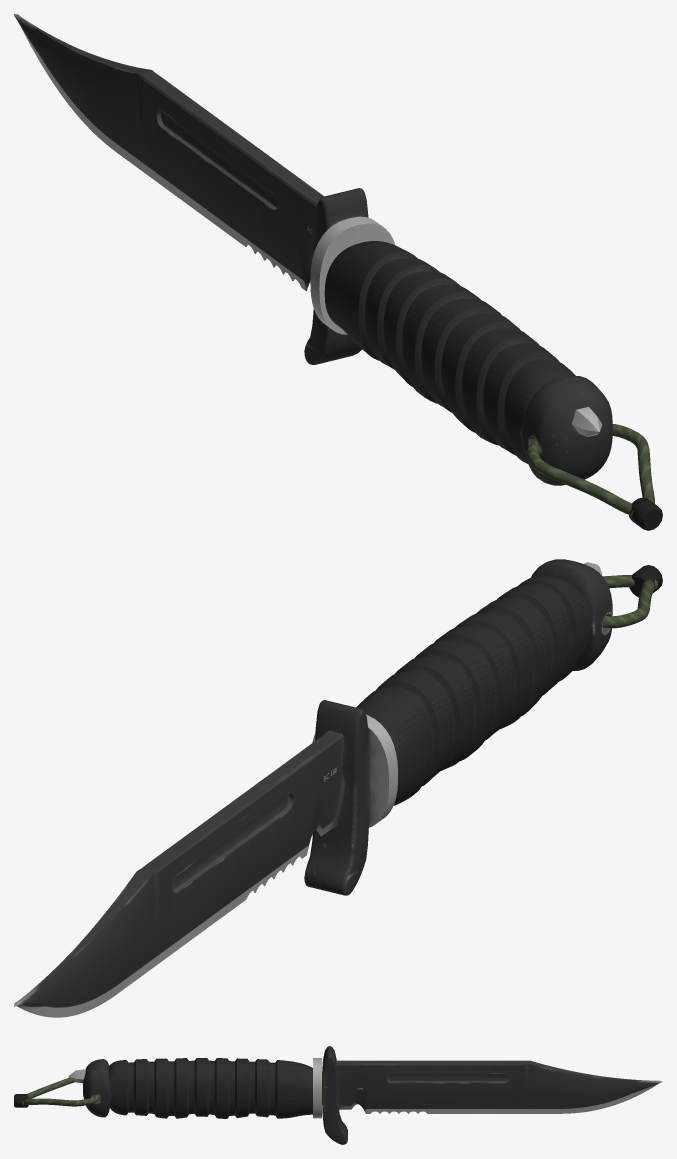
The model's file is faca_combate.glb.
3 views of the same model, one above another, from view 1: azimuth 30°, elevation 25°; view 2: azimuth 150°, elevation 25°; view 3: azimuth 270°, elevation 25° (orthographic). The views are drawn at different scales.
Parts seen in each view (by area): view 1: faca_combate_lamina, faca_combate_cabo; view 2: faca_combate_lamina, faca_combate_cabo; view 3: faca_combate_lamina, faca_combate_cabo.
Boxes of the visible parts, x1,y1,x2,y2 form: faca_combate_lamina: (14, 14, 612, 485); faca_combate_cabo: (324, 241, 662, 530); faca_combate_lamina: (14, 559, 612, 1017); faca_combate_cabo: (356, 565, 662, 805); faca_combate_lamina: (68, 1046, 662, 1144); faca_combate_cabo: (14, 1058, 312, 1118).
Size of the model in its own units: 0.0354 by 0.0539 by 0.354.
1 material, 1 textured.
